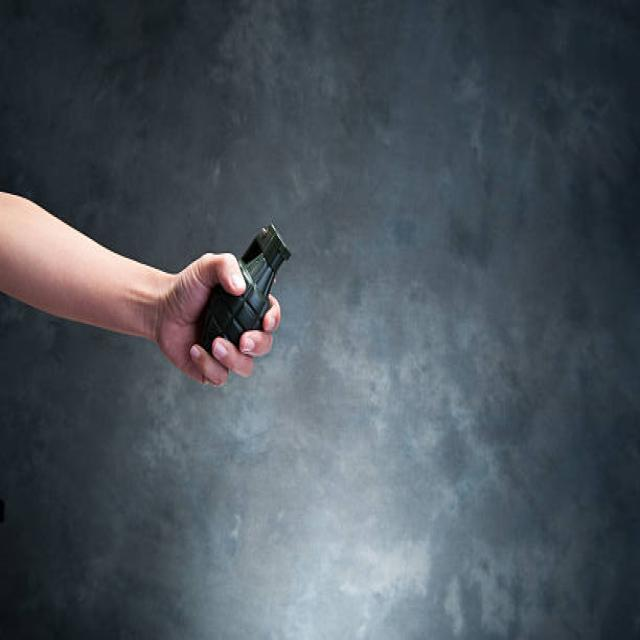grenade: (193, 218, 294, 361)
